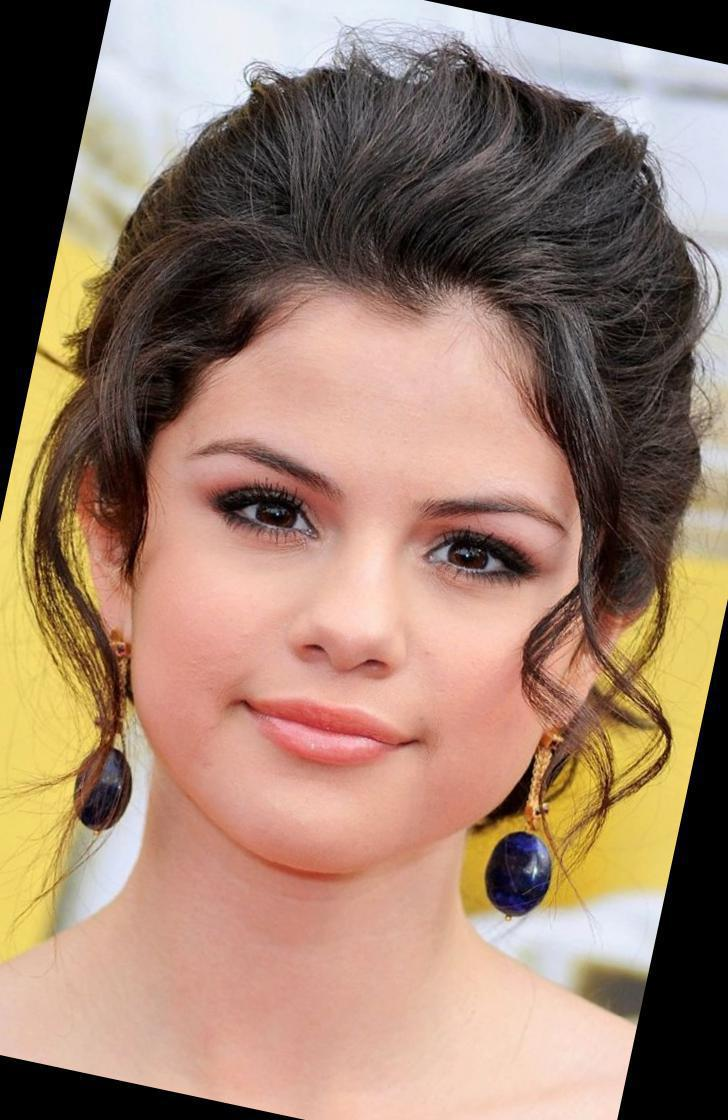Sober: (151, 311, 560, 835)
